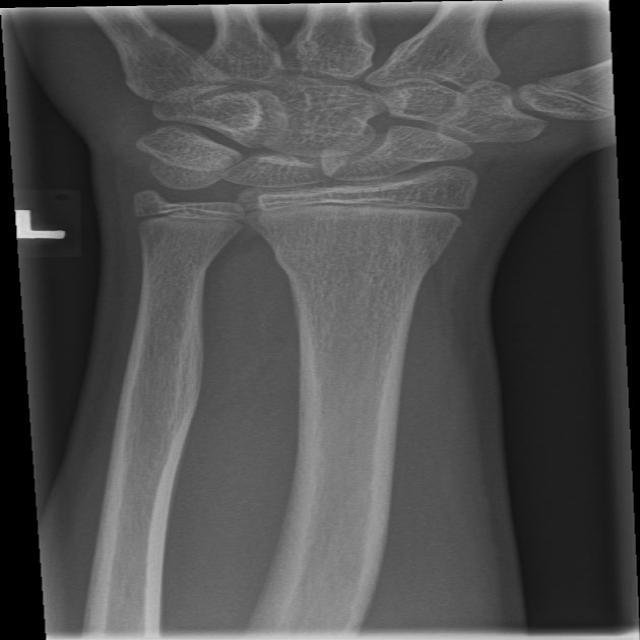fracture: (226, 192, 482, 226), (122, 198, 254, 234)
